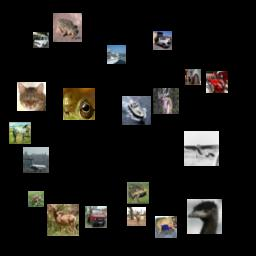airplane: (184, 131, 219, 166), (23, 147, 49, 173)
automobile: (206, 71, 228, 93), (33, 32, 49, 48)
bird: (187, 199, 222, 234)
cat: (17, 82, 46, 111), (185, 69, 201, 85)
deer: (47, 204, 79, 236), (153, 88, 179, 114), (127, 207, 146, 226)
dog: (155, 216, 177, 238)
frog: (63, 88, 95, 120), (53, 13, 82, 42), (127, 182, 149, 204), (28, 191, 44, 207)
ship: (122, 96, 151, 125), (107, 45, 126, 64)
truck: (85, 206, 107, 228), (153, 31, 172, 50)
